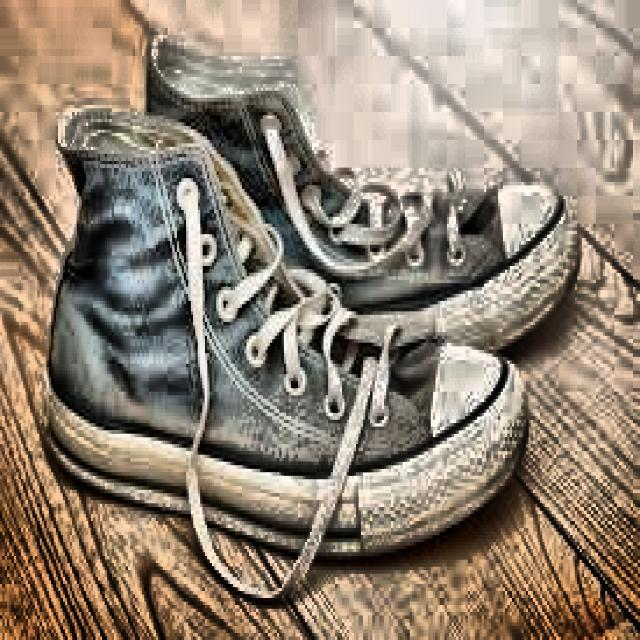shoes: (33, 13, 603, 589)
